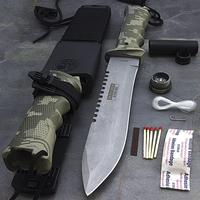knife: (79, 1, 161, 199)
